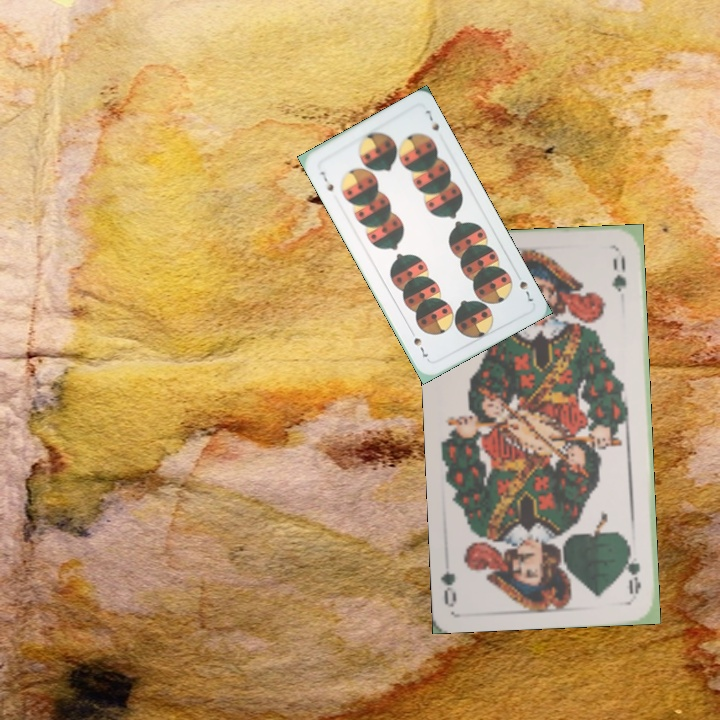GO: (622, 540, 644, 597)
S7: (515, 277, 536, 304), (316, 167, 336, 194)
